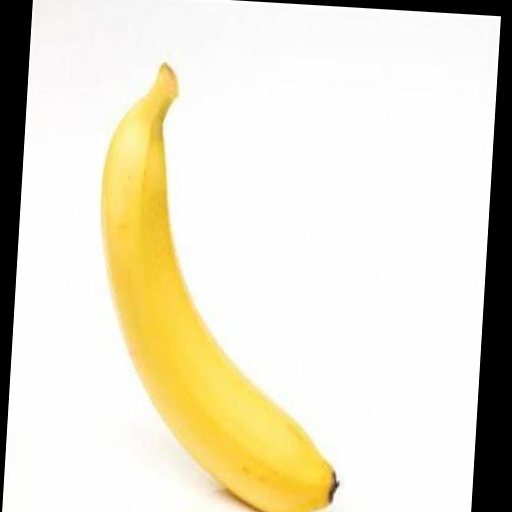fruit: (102, 64, 336, 512)
